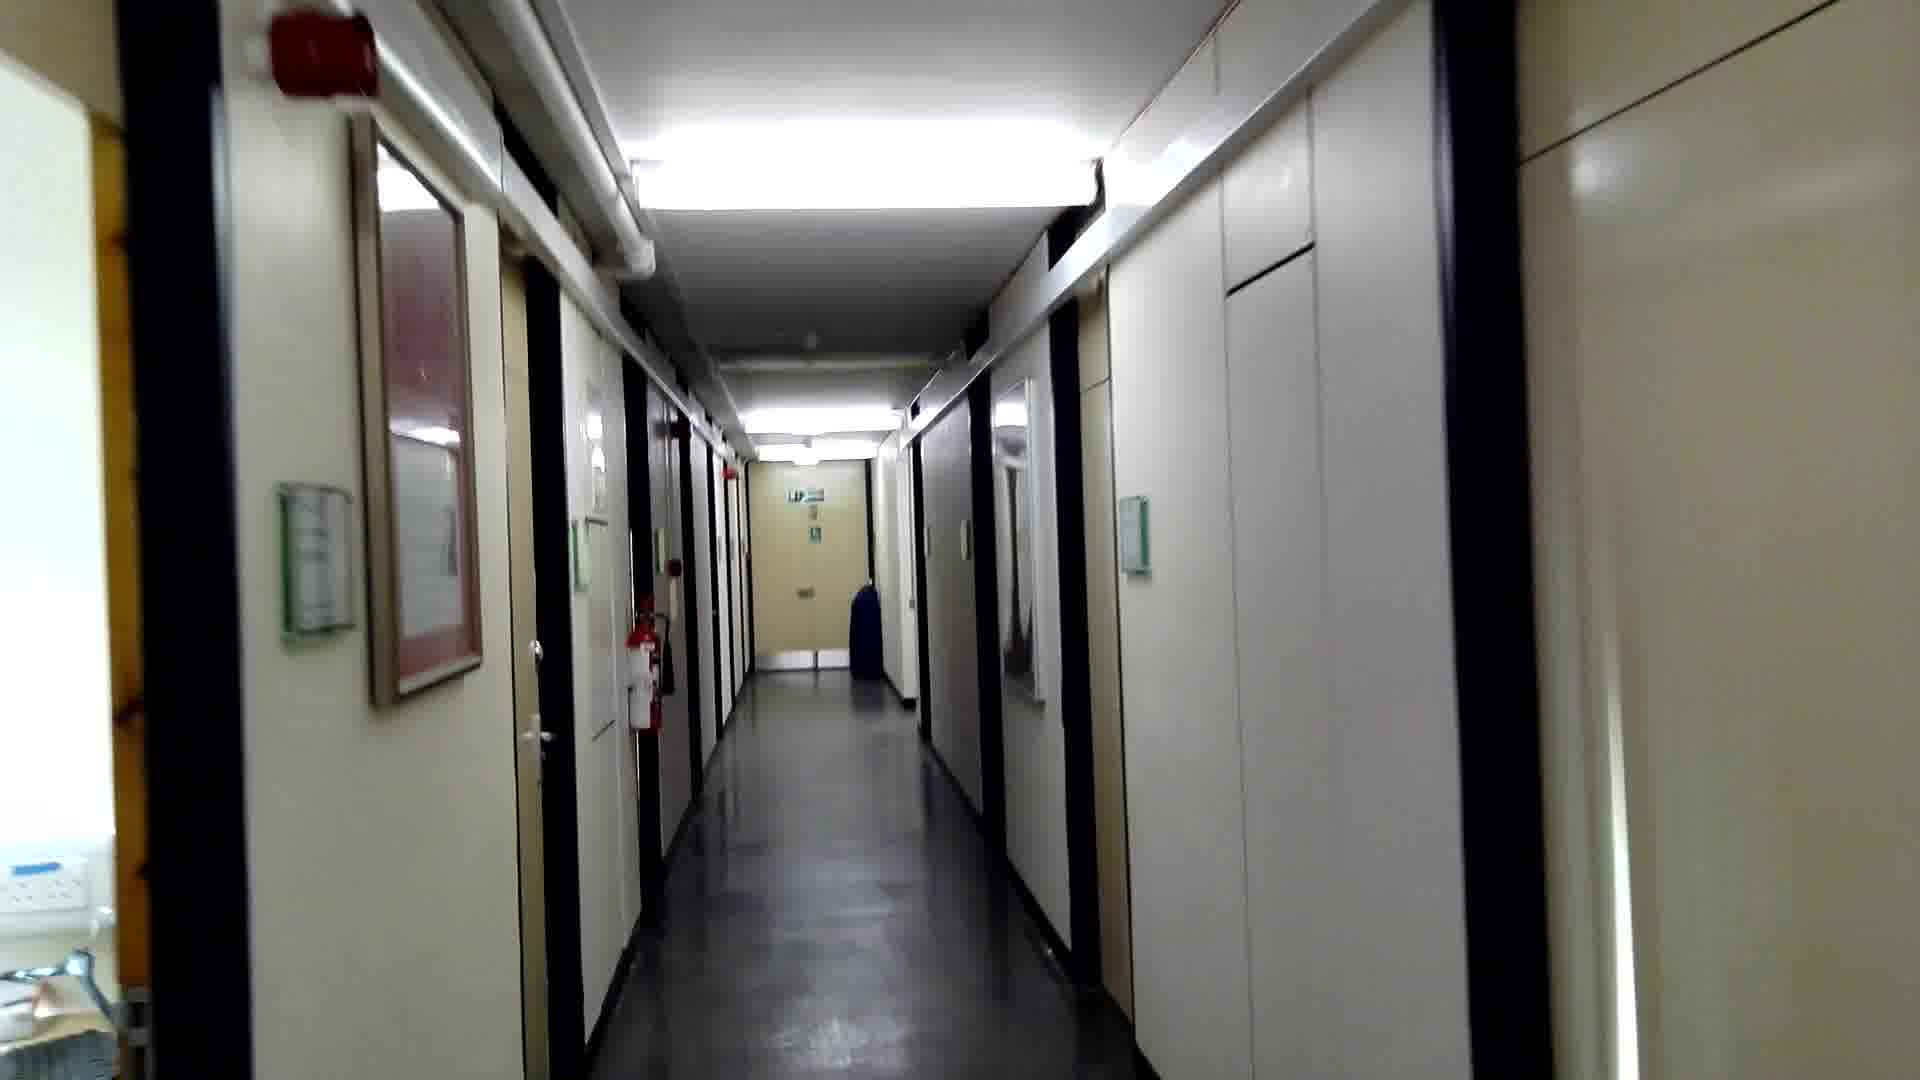Door: (487, 196, 600, 1080), (1068, 253, 1127, 1033), (845, 576, 886, 692)
